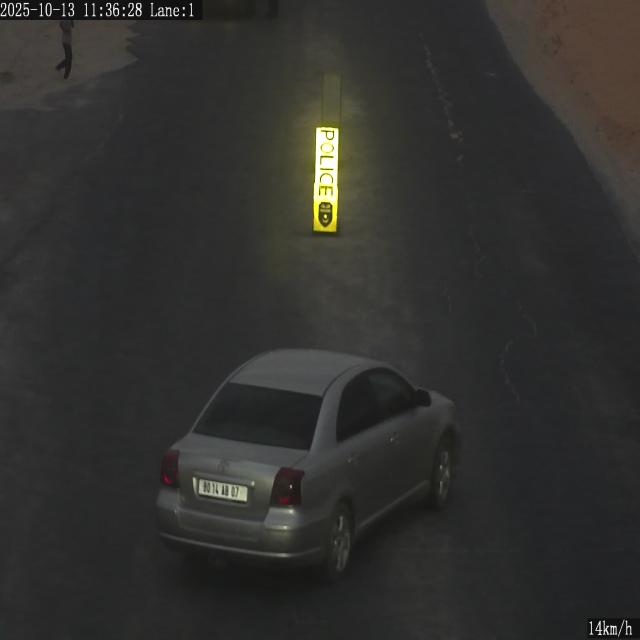BUS: (198, 479, 247, 502)
